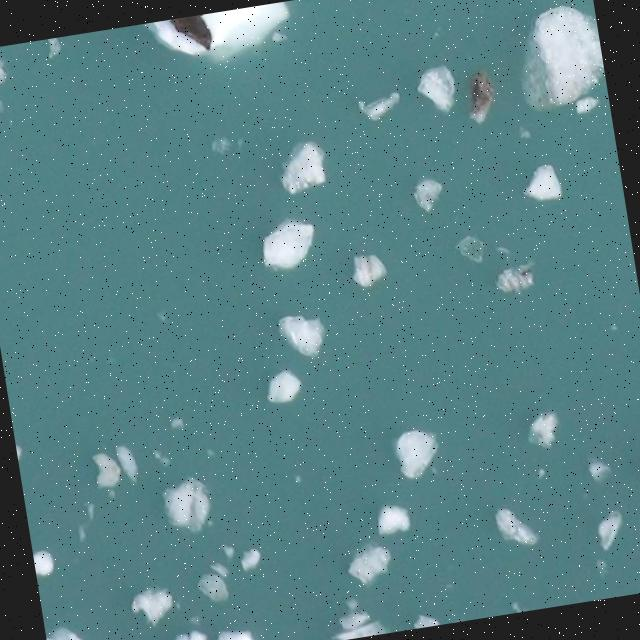seal: (169, 13, 215, 56)
